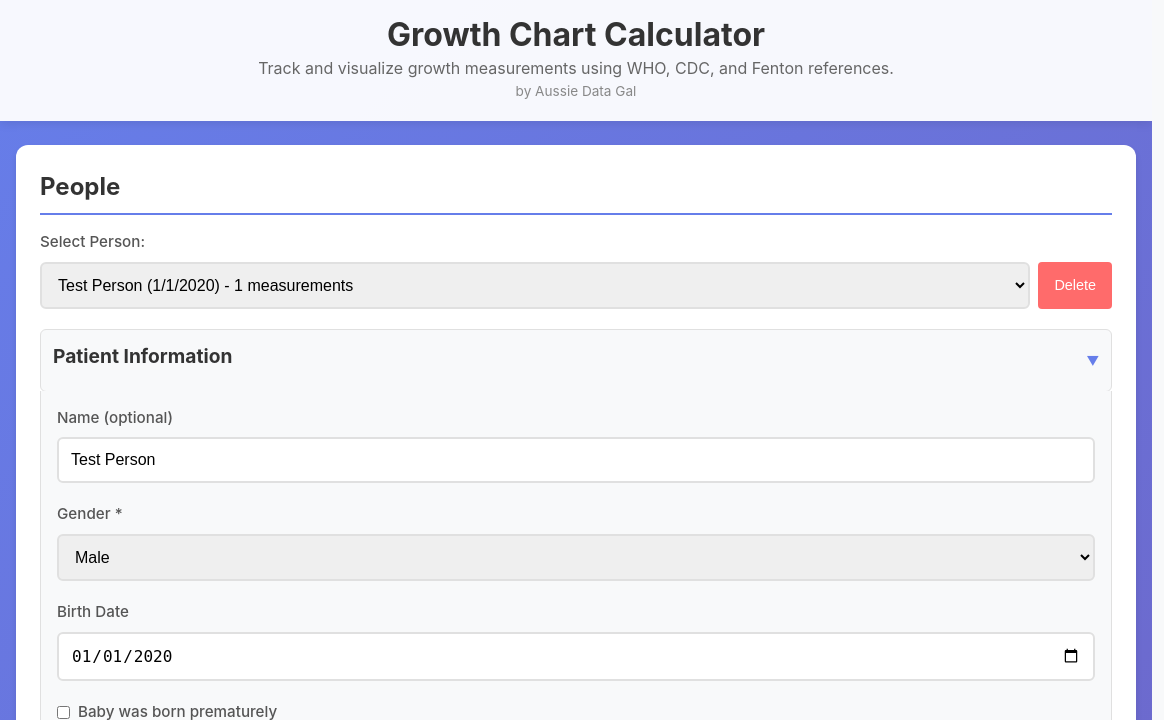
Test: Growth Charts Application - Comprehensive Tests › Deleting a Person › should delete a person and all their measurements
This screenshot has width=1164, height=720.
Click the button "Delete".
click(1075, 285)  # box [1038,262,1112,309]
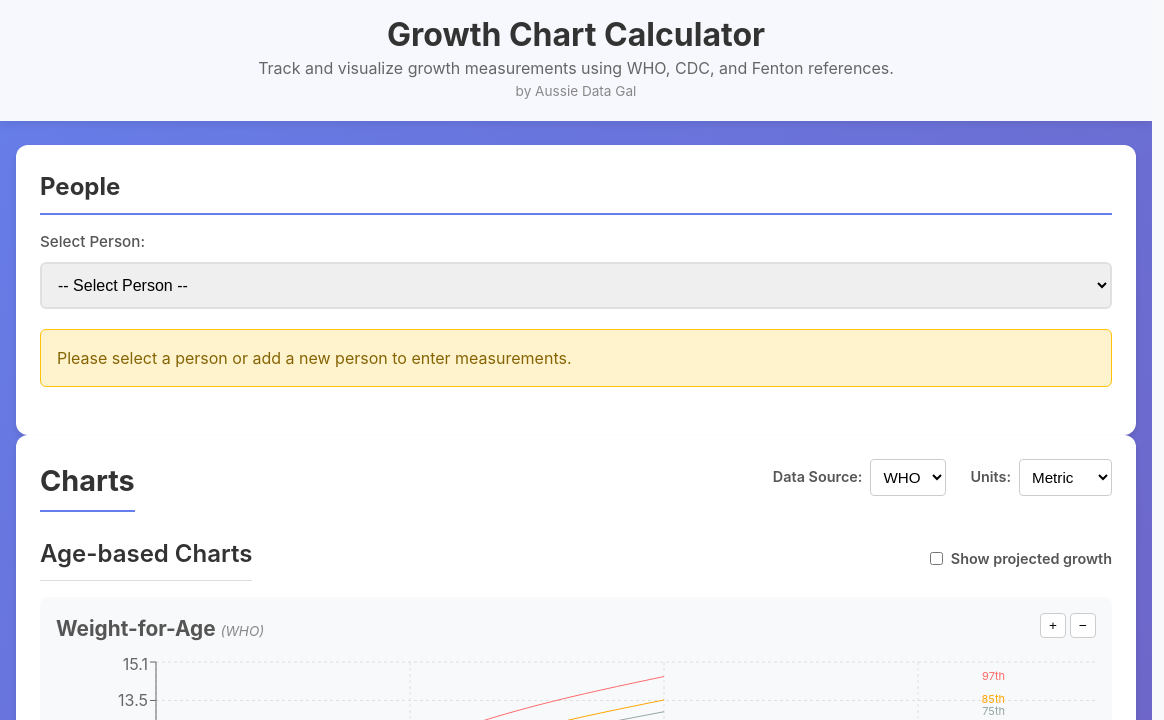
Result: the text "Please select a person" is shown at [57,348,572,368]
